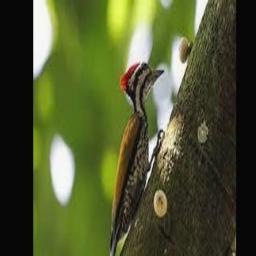Woodpecker: (104, 62, 165, 256)
